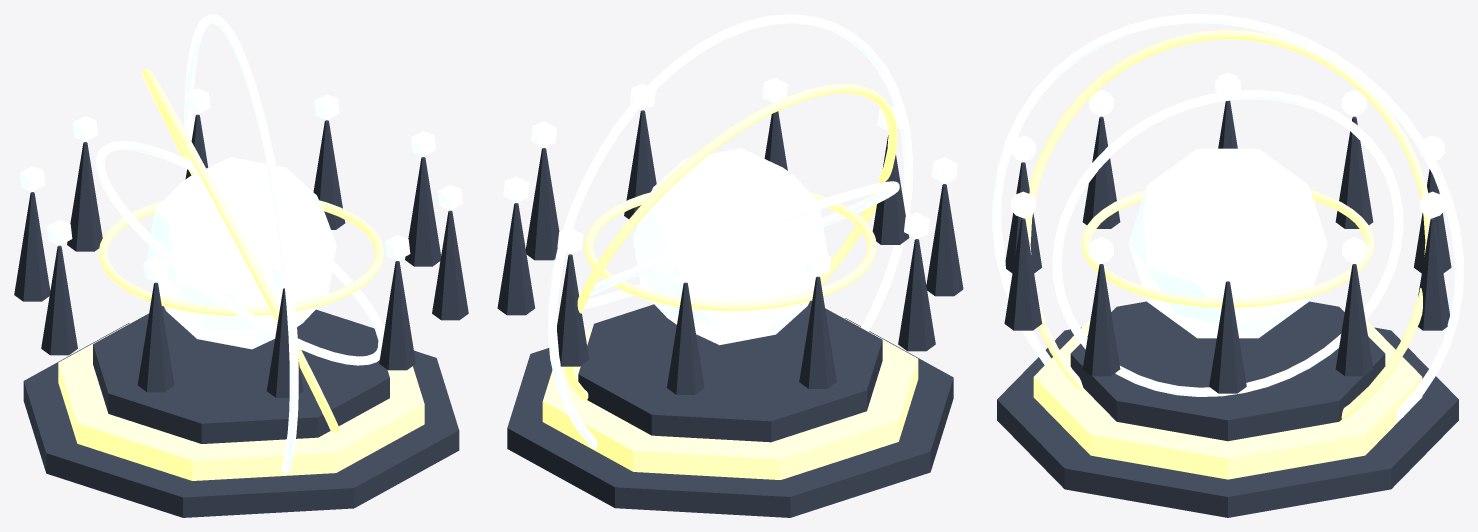
Rendered from gpu-blender-v1.glb.
The picture shows the model from 3 angles, left to right: view 1: azimuth 30°, elevation 25°; view 2: azimuth 150°, elevation 25°; view 3: azimuth 270°, elevation 25°; orthographic projection. The views are drawn at different scales.
Visible parts, largest first — view 1: Cylinder.002, SovereignCore_azoth-local-agent, Cylinder, Cylinder.001, Torus.003, Torus.001, Torus, Torus.002, Cone.006, Cone.009, Cone.005, Cone.008 (+12 smaller); view 2: Cylinder.002, SovereignCore_azoth-local-agent, Cylinder, Cylinder.001, Torus.003, Torus.002, Torus, Torus.001, Cone.005, Cone.001, Cone.006, Cone.003 (+12 smaller); view 3: SovereignCore_azoth-local-agent, Cylinder.002, Cylinder, Cylinder.001, Torus.003, Torus.001, Torus.002, Torus, Cone.001, Cone.009, Cone, Cone.008 (+7 smaller).
Boxes of the visible parts, x1,y1,x2,y2 form: Cylinder.002: (93, 306, 389, 443); SovereignCore_azoth-local-agent: (146, 157, 336, 349); Cylinder: (23, 323, 459, 517); Cylinder.001: (58, 314, 424, 480); Torus.003: (184, 14, 298, 473); Torus.001: (95, 141, 384, 365); Torus: (98, 200, 384, 316); Torus.002: (142, 68, 339, 432); Cone.006: (137, 282, 174, 392); Cone.009: (432, 210, 468, 320); Cone.005: (41, 245, 77, 355); Cone.008: (379, 261, 415, 370); Cylinder.002: (578, 300, 882, 442); SovereignCore_azoth-local-agent: (633, 148, 827, 345); Cylinder: (507, 318, 953, 517); Cylinder.001: (542, 308, 918, 479); Torus.003: (547, 14, 913, 449); Torus.002: (564, 83, 897, 400); Torus: (584, 192, 876, 311); Torus.001: (578, 181, 899, 309); Cone.005: (898, 239, 935, 351); Cone.001: (497, 203, 535, 315); Cone.006: (926, 184, 963, 296); Cone.003: (667, 282, 704, 394); SovereignCore_azoth-local-agent: (1128, 148, 1327, 338); Cylinder.002: (1070, 301, 1385, 441); Cylinder: (997, 327, 1458, 517); Cylinder.001: (1033, 319, 1422, 479); Torus.003: (992, 14, 1463, 421); Torus.001: (1052, 89, 1403, 396); Torus.002: (1024, 30, 1431, 420); Torus: (1081, 190, 1374, 307); Cone.001: (1335, 264, 1373, 376); Cone.009: (1082, 264, 1120, 376); Cone: (1209, 281, 1246, 393); Cone.008: (1004, 218, 1042, 330).
Size of the model in its own units: 4.41 by 4.7 by 4.49.
